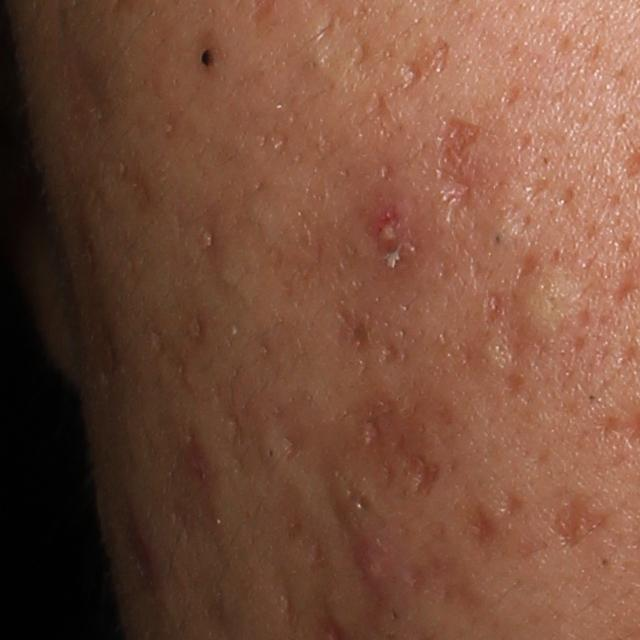atrophic_scar: (55, 12, 117, 127), (110, 490, 163, 618), (435, 116, 485, 224), (454, 290, 507, 378), (507, 253, 537, 398), (548, 491, 617, 554), (430, 220, 490, 288), (277, 505, 329, 577), (396, 34, 453, 95), (398, 448, 440, 503), (267, 547, 294, 632), (335, 469, 377, 521), (463, 495, 497, 552), (316, 10, 338, 54), (521, 170, 548, 202), (498, 489, 523, 522), (377, 340, 404, 367), (279, 433, 300, 463), (500, 82, 520, 109)
comedo: (598, 552, 612, 568)
hypertrophic_scar: (521, 268, 586, 339)
papule: (353, 539, 398, 587)
